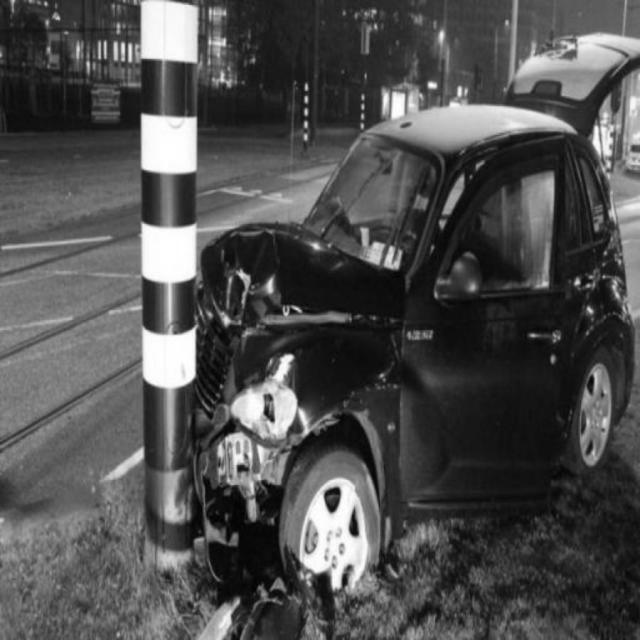accident: (145, 94, 633, 584)
